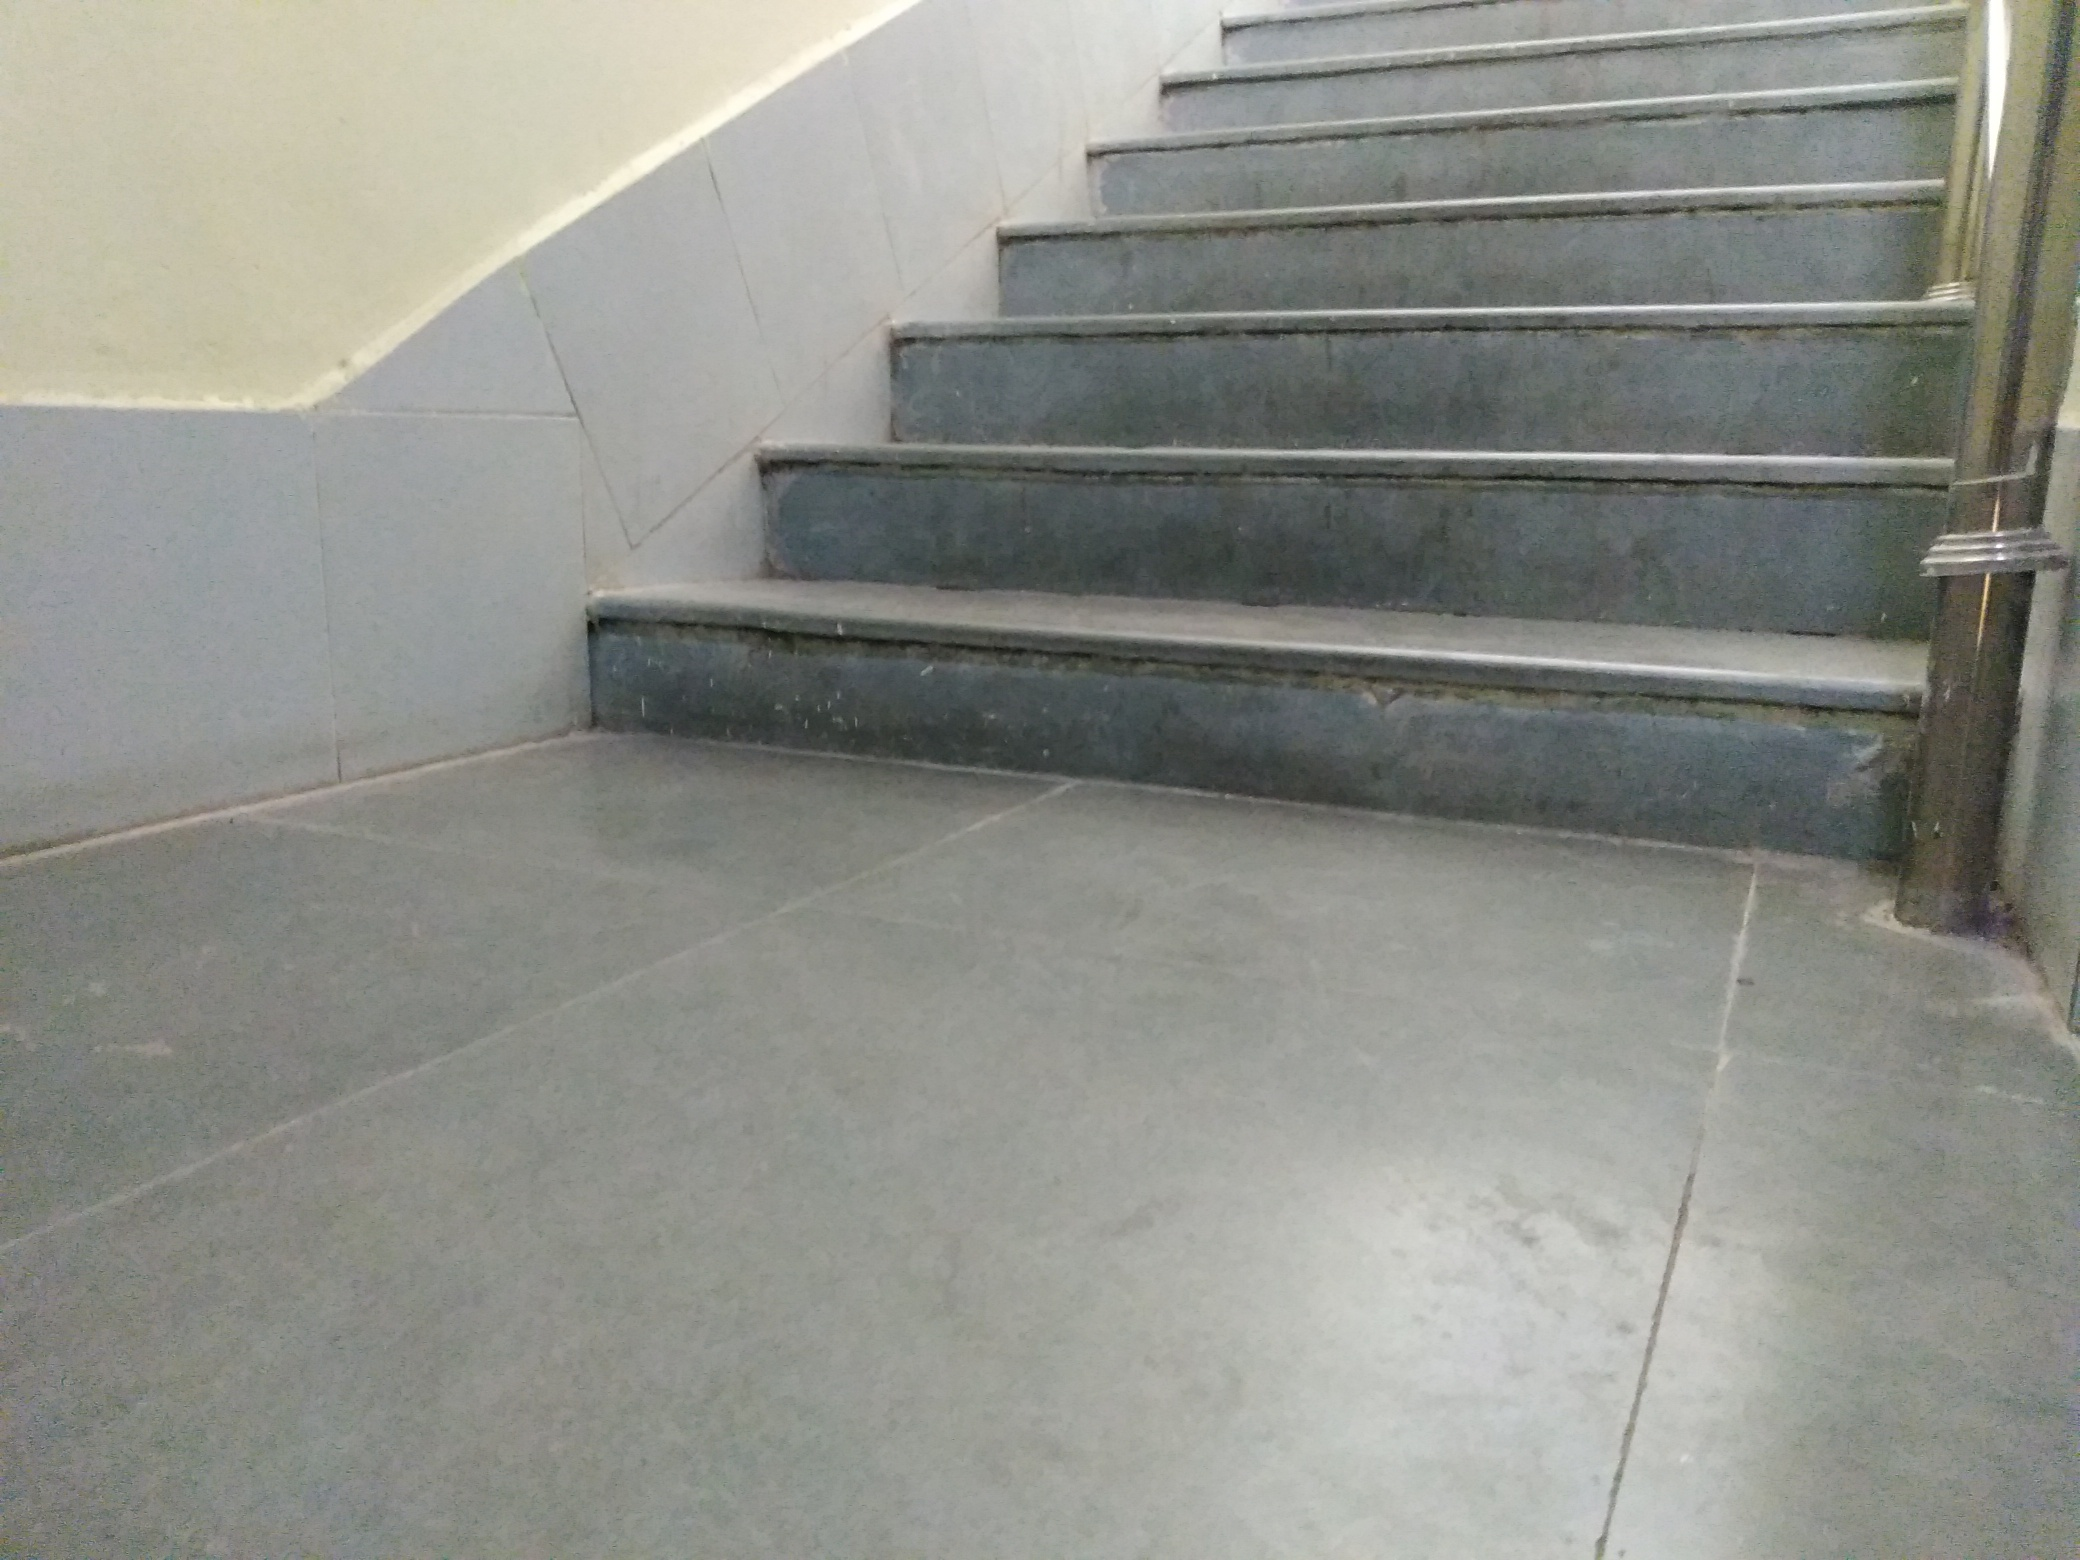stairs_up: (586, 2, 1941, 823)
